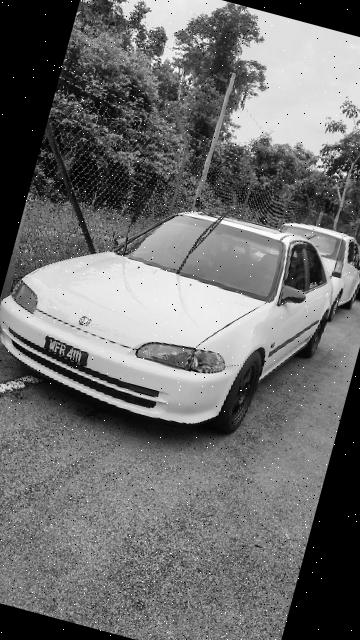License_Plate: (37, 330, 96, 373)
car: (1, 164, 348, 463)
